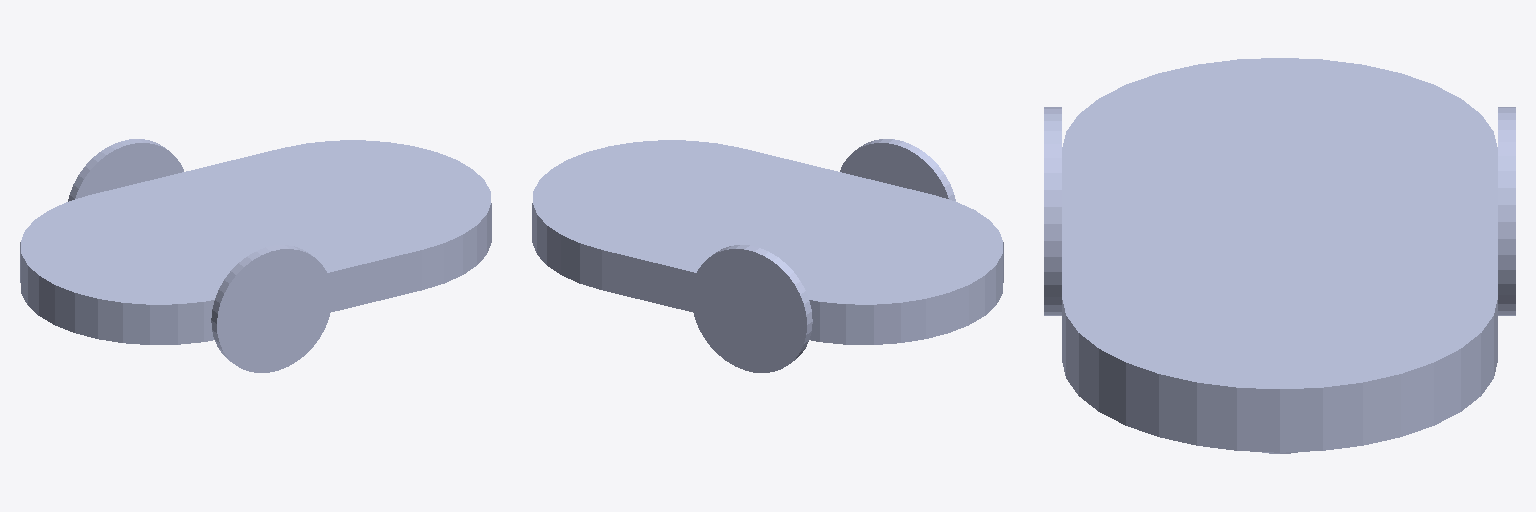
URDF robot description (bot):
<?xml version="1.0" encoding="utf-8"?>
<!-- This URDF was automatically created by SolidWorks to URDF Exporter! Originally created by [author] ([email redacted]) 
     Commit Version: 1.6.0-4-g7f85cfe  Build Version: 1.6.7995.38578
     For more information, please see http://wiki.ros.org/sw_urdf_exporter -->
<robot
  name="bot">
  <link
    name="base_link">
    <inertial>
      <origin
        xyz="0.0175258848470044 -6.93889390390723E-18 -0.0434907756108515"
        rpy="0 0 0" />
      <mass
        value="31.8459124902102" />
      <inertia
        ixx="0.576724606534719"
        ixy="-2.98054260107805E-17"
        ixz="0.0257206071314688"
        iyy="1.8511480910675"
        iyz="6.08510112063227E-18"
        izz="2.37865353514719" />
    </inertial>
    <visual>
      <origin
        xyz="0 0 0"
        rpy="0 0 0" />
      <geometry>
        <mesh
          filename="package://bot/meshes/base_link.STL" />
      </geometry>
      <material
        name="">
        <color
          rgba="0.792156862745098 0.819607843137255 0.933333333333333 1" />
      </material>
    </visual>
    <collision>
      <origin
        xyz="0 0 0"
        rpy="0 0 0" />
      <geometry>
        <mesh
          filename="package://bot/meshes/base_link.STL" />
      </geometry>
    </collision>
  </link>
  <link
    name="linkleft">
    <inertial>
      <origin
        xyz="-0.11696105411945 0.25527027027027 -0.03909954689"
        rpy="0 0 0" />
      <mass
        value="1.0461503536454" />
      <inertia
        ixx="0.003498401161919"
        ixy="2.53035420170816E-18"
        ixz="8.26739449559682E-21"
        iyy="0.00657802377771899"
        iyz="-6.7190252862076E-19"
        izz="0.003498401161919" />
    </inertial>
    <visual>
      <origin
        xyz="0 0 0"
        rpy="0 0 0" />
      <geometry>
        <mesh
          filename="package://bot/meshes/linkleft.STL" />
      </geometry>
      <material
        name="">
        <color
          rgba="0.792156862745098 0.819607843137255 0.933333333333333 1" />
      </material>
    </visual>
    <collision>
      <origin
        xyz="0 0 0"
        rpy="0 0 0" />
      <geometry>
        <mesh
          filename="package://bot/meshes/linkleft.STL" />
      </geometry>
    </collision>
  </link>
  <joint
    name="leftjoint"
    type="continuous">
    <origin
      xyz="0 0 0"
      rpy="0 0 0" />
    <parent
      link="base_link" />
    <child
      link="linkleft" />
    <axis
      xyz="0 -1 0" />
    <limit
      effort="1"
      velocity="1" />
  </joint>
  <link
    name="linkright">
    <inertial>
      <origin
        xyz="6.24500451351651E-17 0.0147297297297297 -4.85722573273506E-17"
        rpy="0 0 0" />
      <mass
        value="1.0461503536454" />
      <inertia
        ixx="0.00349840116191899"
        ixy="6.79632873406198E-19"
        ixz="-6.33351239789669E-19"
        iyy="0.00657802377771899"
        iyz="2.95254314555468E-19"
        izz="0.00349840116191899" />
    </inertial>
    <visual>
      <origin
        xyz="0 0 0"
        rpy="0 0 0" />
      <geometry>
        <mesh
          filename="package://bot/meshes/linkright.STL" />
      </geometry>
      <material
        name="">
        <color
          rgba="0.792156862745098 0.819607843137255 0.933333333333333 1" />
      </material>
    </visual>
    <collision>
      <origin
        xyz="0 0 0"
        rpy="0 0 0" />
      <geometry>
        <mesh
          filename="package://bot/meshes/linkright.STL" />
      </geometry>
    </collision>
  </link>
  <joint
    name="rightjoint"
    type="continuous">
    <origin
      xyz="-0.11696105411945 -0.27 -0.03909954689"
      rpy="0 0 0" />
    <parent
      link="base_link" />
    <child
      link="linkright" />
    <axis
      xyz="0 -1 0" />
  </joint>
</robot>

--- Render facts (derived) ---
The picture shows the robot from 3 angles, left to right: view 1: azimuth 30°, elevation 25°; view 2: azimuth 150°, elevation 25°; view 3: azimuth 270°, elevation 25°; orthographic projection.
Model bot with 3 links and 2 joints (2 continuous), rooted at base_link, posed all joints at 0.
Visible links, largest first — view 1: base_link, linkright, linkleft; view 2: base_link, linkleft, linkright; view 3: base_link, linkleft, linkright.
Boxes of the visible links, x1,y1,x2,y2 form: base_link: [20, 140, 491, 344]; linkright: [211, 245, 332, 372]; linkleft: [68, 139, 183, 201]; base_link: [532, 140, 1003, 344]; linkleft: [691, 245, 812, 372]; linkright: [840, 139, 955, 200]; base_link: [1062, 58, 1497, 453]; linkleft: [1498, 107, 1515, 315]; linkright: [1044, 107, 1061, 315].
Size in the robot's own frame: 0.9 by 0.54 by 0.2406 metres.
3 mesh visuals loaded from 3 distinct referenced files (3 binary STL).